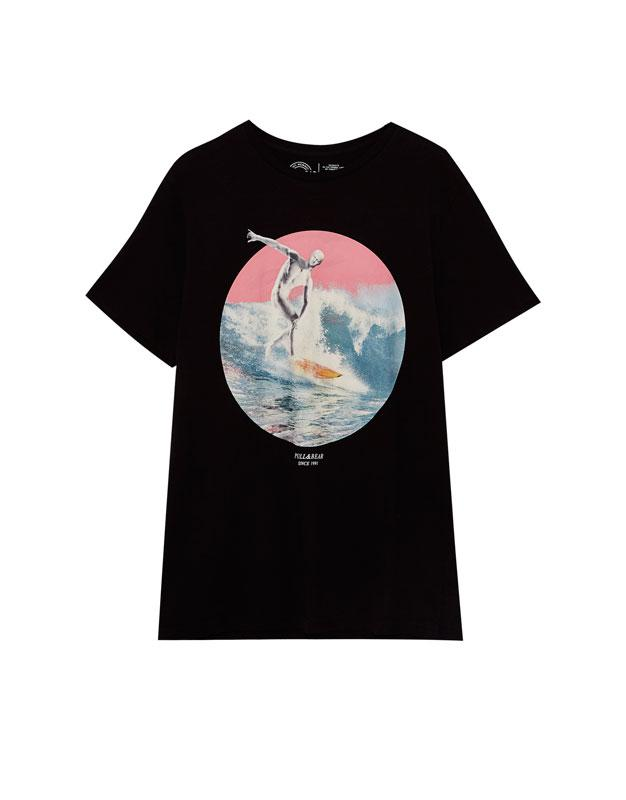teeshirt: (8, 8, 618, 792)
